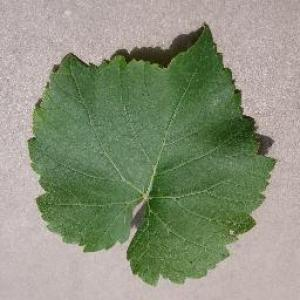Folha: (25, 21, 276, 286)
